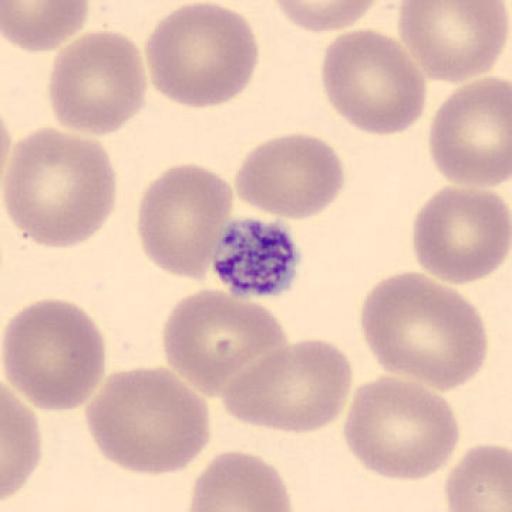Platelet: (211, 215, 305, 300)
RBC: (358, 269, 490, 393), (160, 286, 288, 398), (84, 365, 212, 476), (2, 128, 119, 249), (218, 337, 355, 435), (342, 374, 462, 482), (144, 0, 260, 110), (0, 297, 107, 412), (320, 26, 428, 138), (136, 162, 235, 282), (46, 30, 149, 136), (410, 184, 512, 286), (234, 132, 346, 222), (426, 75, 512, 189), (397, 0, 509, 85), (186, 450, 295, 512), (2, 381, 42, 503), (1, 0, 91, 54), (443, 443, 512, 512), (271, 0, 380, 34), (0, 107, 11, 193)
